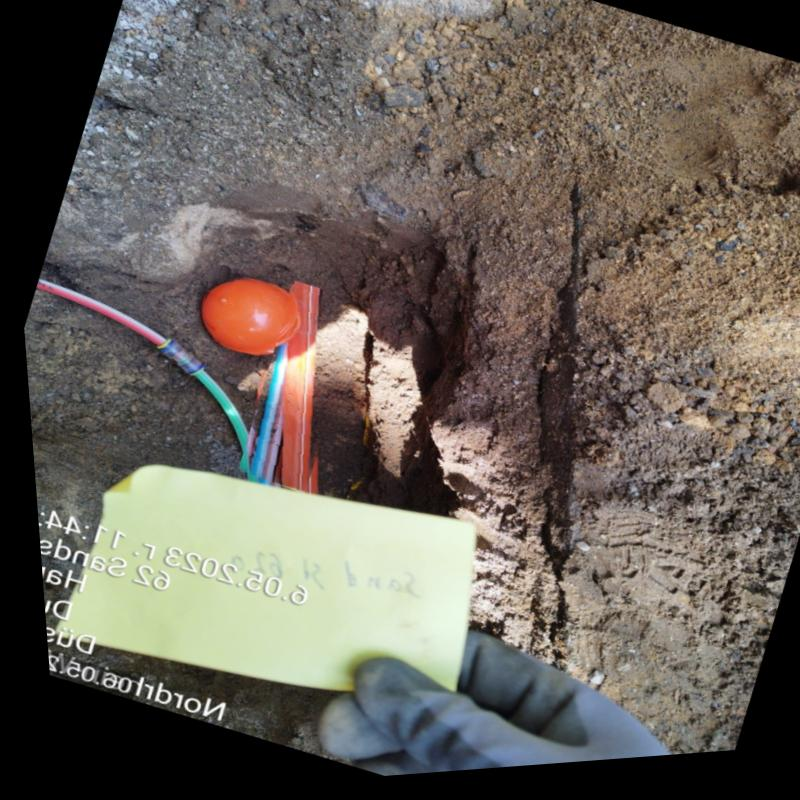Kugelmarker: (197, 284, 298, 357)
Orang-Speednetrohrchen: (245, 285, 315, 494)
